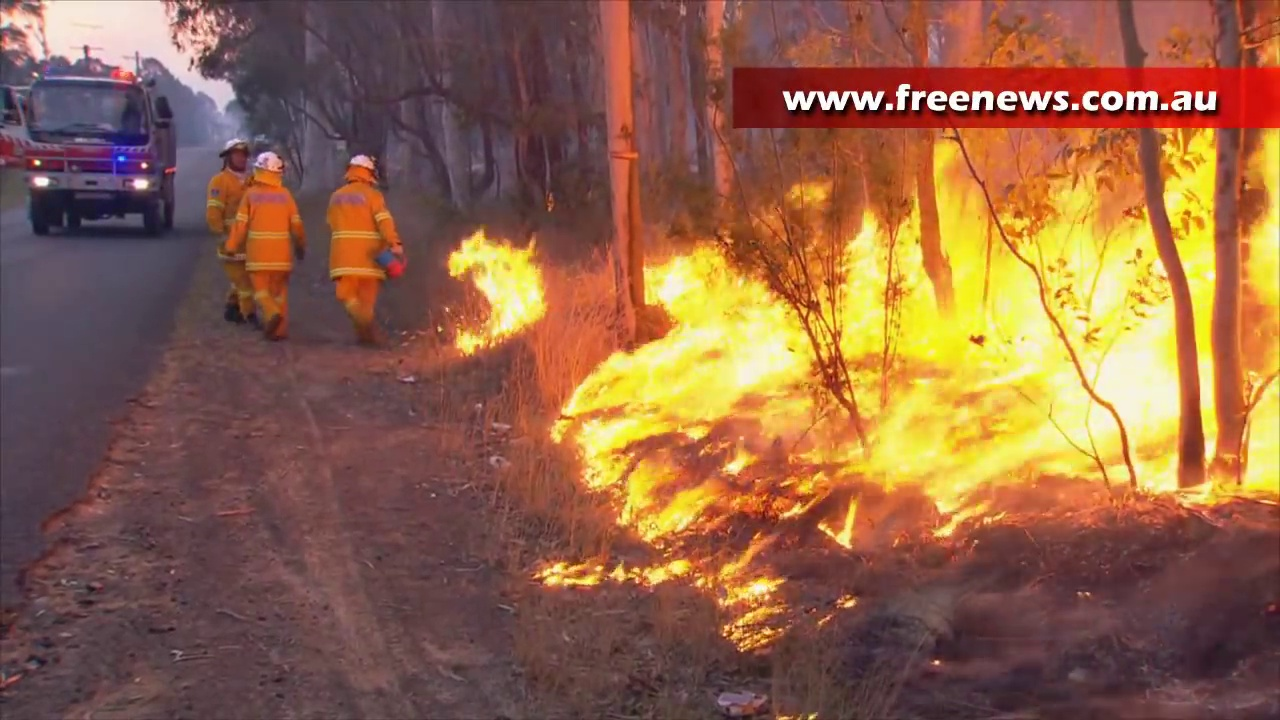fire: (556, 115, 1280, 500), (452, 231, 546, 337)
